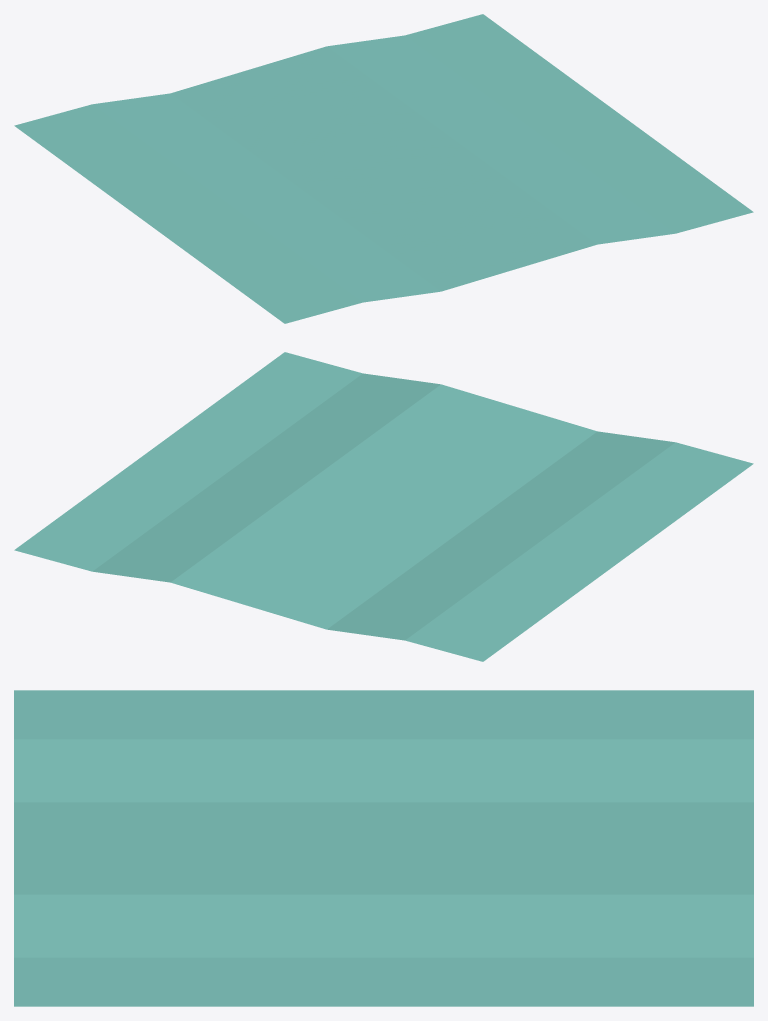
File: Reef_Shallow.fbx
3 views of the same model, one above another, from view 1: azimuth 30°, elevation 25°; view 2: azimuth 150°, elevation 25°; view 3: azimuth 270°, elevation 25° (orthographic). The views are drawn at different scales.
Visible parts, largest first — view 1: Reef_Shallow; view 2: Reef_Shallow; view 3: Reef_Shallow.
Part boxes in pixels (x1,y1,x2,y2): Reef_Shallow: (14, 14, 753, 323); Reef_Shallow: (14, 352, 753, 661); Reef_Shallow: (14, 690, 753, 1006).
Size of the model in its own units: 15 by 0.2728 by 15.
